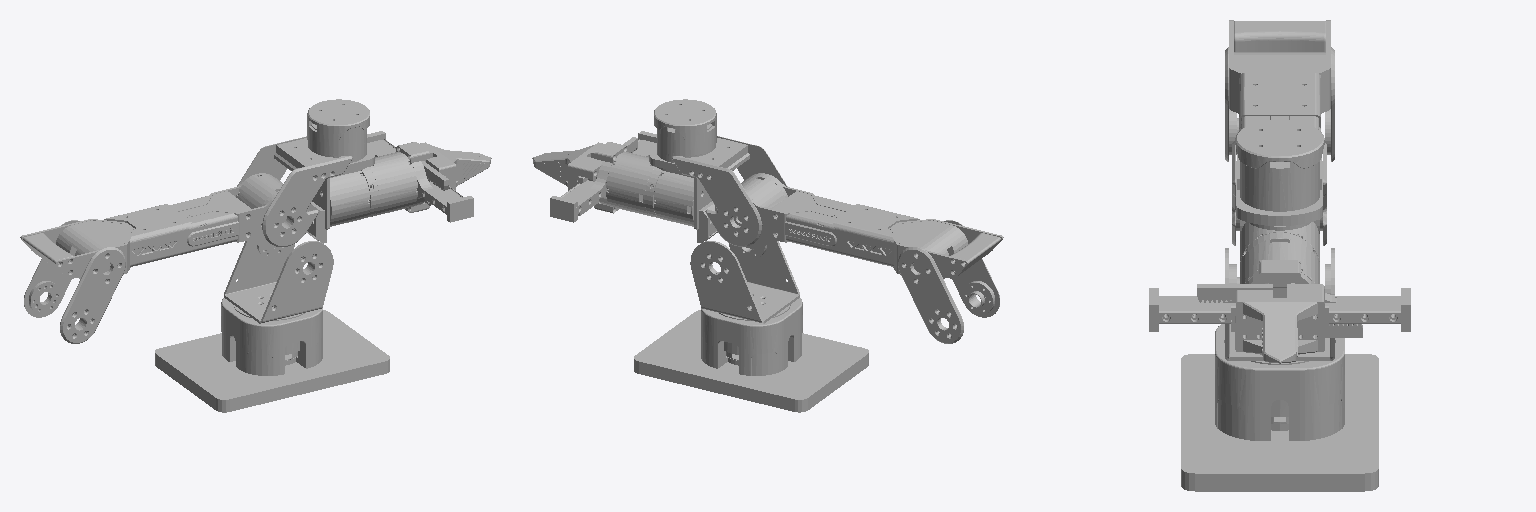
robot.urdf — reBot-DevArm_fixend:
<?xml version="1.0" encoding="utf-8"?>
<!-- This URDF was automatically created by SolidWorks to URDF Exporter! Originally created by Stephen Brawner (brawner@gmail.com) 
     Commit Version: 1.6.0-4-g7f85cfe  Build Version: 1.6.7995.38578
     For more information, please see http://wiki.ros.org/sw_urdf_exporter -->
<robot
  name="reBot-DevArm_fixend">
  <link
    name="base_link">
    <inertial>
      <origin
        xyz="-1.85734193190318E-05 -3.14893917816028E-08 0.0235694730998748"
        rpy="0 0 0" />
      <mass
        value="0.719994590495512" />
      <inertia
        ixx="0.000915098415293508"
        ixy="1.16624299234023E-08"
        ixz="-2.77627033649579E-07"
        iyy="0.00159394997606591"
        iyz="-3.83853691579024E-10"
        izz="0.00234792471513731" />
    </inertial>
    <visual>
      <origin
        xyz="0 0 0"
        rpy="0 0 0" />
      <geometry>
        <mesh
          filename="package://reBot-DevArm_description_fixend/meshes/base_link.STL" />
      </geometry>
      <material
        name="">
        <color
          rgba="0.752941176470588 0.752941176470588 0.752941176470588 1" />
      </material>
    </visual>
    <collision>
      <origin
        xyz="0 0 0"
        rpy="0 0 0" />
      <geometry>
        <mesh
          filename="package://reBot-DevArm_description_fixend/meshes/base_link.STL" />
      </geometry>
    </collision>
  </link>
  <link
    name="link1">
    <inertial>
      <origin
        xyz="0.00946544445312927 -0.000916580237430832 0.0265782762061412"
        rpy="0 0 0" />
      <mass
        value="0.0474137994557966" />
      <inertia
        ixx="6.36839627695188E-05"
        ixy="-1.55440663246564E-11"
        ixz="-7.08508824336641E-06"
        iyy="3.98844280553226E-05"
        iyz="-4.4556429003454E-11"
        izz="5.92016142489911E-05" />
    </inertial>
    <visual>
      <origin
        xyz="0 0 0"
        rpy="0 0 0" />
      <geometry>
        <mesh
          filename="package://reBot-DevArm_description_fixend/meshes/link1.STL" />
      </geometry>
      <material
        name="">
        <color
          rgba="0.752941176470588 0.752941176470588 0.752941176470588 1" />
      </material>
    </visual>
    <collision>
      <origin
        xyz="0 0 0"
        rpy="0 0 0" />
      <geometry>
        <mesh
          filename="package://reBot-DevArm_description_fixend/meshes/link1.STL" />
      </geometry>
    </collision>
  </link>
  <joint
    name="joint1"
    type="revolute">
    <origin
      xyz="0 0 0.0708"
      rpy="0 0 0" />
    <parent
      link="base_link" />
    <child
      link="link1" />
    <axis
      xyz="0 0 1" />
    <limit
      lower="-3.14"
      upper="3.14"
      effort="27"
      velocity="50" />
  </joint>
  <link
    name="link2">
    <inertial>
      <origin
        xyz="-0.132889542584872 -0.003258224978752 -0.0349384843366669"
        rpy="0 0 0" />
      <mass
        value="0.739226251844668" />
      <inertia
        ixx="0.000256114561344732"
        ixy="-6.74416097640004E-06"
        ixz="4.81792944649058E-10"
        iyy="0.00206193618710208"
        iyz="4.37044735910569E-07"
        izz="0.00205913873630619" />
    </inertial>
    <visual>
      <origin
        xyz="0 0 0"
        rpy="0 0 0" />
      <geometry>
        <mesh
          filename="package://reBot-DevArm_description_fixend/meshes/link2.STL" />
      </geometry>
      <material
        name="">
        <color
          rgba="0.752941176470588 0.752941176470588 0.752941176470588 1" />
      </material>
    </visual>
    <collision>
      <origin
        xyz="0 0 0"
        rpy="0 0 0" />
      <geometry>
        <mesh
          filename="package://reBot-DevArm_description_fixend/meshes/link2.STL" />
      </geometry>
    </collision>
  </link>
  <joint
    name="joint2"
    type="revolute">
    <origin
      xyz="0.02 0.035625 0.0497"
      rpy="-1.5708 0 0" />
    <parent
      link="link1" />
    <child
      link="link2" />
    <axis
      xyz="0 0 -1" />
    <limit
      lower="-3.14"
      upper="0"
      effort="27"
      velocity="50" />
  </joint>
  <link
    name="link3">
    <inertial>
      <origin
        xyz="0.123937952105152 -0.0545951132444595 -0.0352155733412803"
        rpy="0 0 0" />
      <mass
        value="0.517217816239094" />
      <inertia
        ixx="0.000154448088504725"
        ixy="1.31408569477724E-05"
        ixz="-1.08370172627092E-09"
        iyy="0.00131521837345199"
        iyz="2.77287281258215E-07"
        izz="0.00130884871979224" />
    </inertial>
    <visual>
      <origin
        xyz="0 0 0"
        rpy="0 0 0" />
      <geometry>
        <mesh
          filename="package://reBot-DevArm_description_fixend/meshes/link3.STL" />
      </geometry>
      <material
        name="">
        <color
          rgba="0.752941176470588 0.752941176470588 0.752941176470588 1" />
      </material>
    </visual>
    <collision>
      <origin
        xyz="0 0 0"
        rpy="0 0 0" />
      <geometry>
        <mesh
          filename="package://reBot-DevArm_description_fixend/meshes/link3.STL" />
      </geometry>
    </collision>
  </link>
  <joint
    name="joint3"
    type="revolute">
    <origin
      xyz="-0.264 0 0"
      rpy="0 0 0" />
    <parent
      link="link2" />
    <child
      link="link3" />
    <axis
      xyz="0 0 1" />
    <limit
      lower="-3.14"
      upper="0"
      effort="27"
      velocity="50" />
  </joint>
  <link
    name="link4">
    <inertial>
      <origin
        xyz="0.0605173509890757 -0.0515591812721402 -0.0304480106784497"
        rpy="0 0 0" />
      <mass
        value="0.192697131774934" />
      <inertia
        ixx="8.02180695386143E-05"
        ixy="1.80653906847015E-05"
        ixz="4.16372809232252E-08"
        iyy="0.00011283880277066"
        iyz="-1.27766109264829E-07"
        izz="0.000110011824792294" />
    </inertial>
    <visual>
      <origin
        xyz="0 0 0"
        rpy="0 0 0" />
      <geometry>
        <mesh
          filename="package://reBot-DevArm_description_fixend/meshes/link4.STL" />
      </geometry>
      <material
        name="">
        <color
          rgba="0.752941176470588 0.752941176470588 0.752941176470588 1" />
      </material>
    </visual>
    <collision>
      <origin
        xyz="0 0 0"
        rpy="0 0 0" />
      <geometry>
        <mesh
          filename="package://reBot-DevArm_description_fixend/meshes/link4.STL" />
      </geometry>
    </collision>
  </link>
  <joint
    name="joint4"
    type="revolute">
    <origin
      xyz="0.2426 -0.054 -0.005625"
      rpy="0 0 0" />
    <parent
      link="link3" />
    <child
      link="link4" />
    <axis
      xyz="0 0 1" />
    <limit
      lower="-1.87"
      upper="1.57"
      effort="7"
      velocity="200" />
  </joint>
  <link
    name="link5">
    <inertial>
      <origin
        xyz="-0.0050794127558127 0.00010101378072503 0.0368401332519827"
        rpy="0 0 0" />
      <mass
        value="0.132385396678886" />
      <inertia
        ixx="5.35384612243393E-05"
        ixy="2.77627187996669E-07"
        ixz="3.09969892642944E-06"
        iyy="4.65021943386178E-05"
        iyz="1.16620238873388E-08"
        izz="4.49715503183576E-05" />
    </inertial>
    <visual>
      <origin
        xyz="0 0 0"
        rpy="0 0 0" />
      <geometry>
        <mesh
          filename="package://reBot-DevArm_description_fixend/meshes/link5.STL" />
      </geometry>
      <material
        name="">
        <color
          rgba="0.752941176470588 0.752941176470588 0.752941176470588 1" />
      </material>
    </visual>
    <collision>
      <origin
        xyz="0 0 0"
        rpy="0 0 0" />
      <geometry>
        <mesh
          filename="package://reBot-DevArm_description_fixend/meshes/link5.STL" />
      </geometry>
    </collision>
  </link>
  <joint
    name="joint5"
    type="revolute">
    <origin
      xyz="0.078308 -0.0355 -0.03"
      rpy="-1.5708 0 0" />
    <parent
      link="link4" />
    <child
      link="link5" />
    <axis
      xyz="0 0 1" />
    <limit
      lower="-1.57"
      upper="1.57"
      effort="7"
      velocity="200" />
  </joint>
  <link
    name="link6">
    <inertial>
      <origin
        xyz="-3.8781691230616E-07 0.000113777214552087 0.0230647909060226"
        rpy="0 0 0" />
      <mass
        value="0.11789729559246" />
      <inertia
        ixx="3.88080010698203E-05"
        ixy="-1.17785351596058E-08"
        ixz="-3.87297996334965E-10"
        iyy="3.85559589025659E-05"
        iyz="2.77632235790657E-07"
        izz="4.97947305166078E-05" />
    </inertial>
    <visual>
      <origin
        xyz="0 0 0"
        rpy="0 0 0" />
      <geometry>
        <mesh
          filename="package://reBot-DevArm_description_fixend/meshes/link6.STL" />
      </geometry>
      <material
        name="">
        <color
          rgba="0.752941176470588 0.752941176470588 0.752941176470588 1" />
      </material>
    </visual>
    <collision>
      <origin
        xyz="0 0 0"
        rpy="0 0 0" />
      <geometry>
        <mesh
          filename="package://reBot-DevArm_description_fixend/meshes/link6.STL" />
      </geometry>
    </collision>
  </link>
  <joint
    name="joint6"
    type="revolute">
    <origin
      xyz="0.027192 0 0.038"
      rpy="0 1.5708 0" />
    <parent
      link="link5" />
    <child
      link="link6" />
    <axis
      xyz="0 0 1" />
    <limit
      lower="-6.28"
      upper="6.28"
      effort="7"
      velocity="200" />
  </joint>
  <link
    name="end_link">
    <inertial>
      <origin
        xyz="-0.0725515914083579 -2.48849641689627E-05 8.93997475285291E-05"
        rpy="0 0 0" />
      <mass
        value="0.144462872984956" />
      <inertia
        ixx="0.000184957886333639"
        ixy="2.96738638766954E-12"
        ixz="2.85406142523417E-09"
        iyy="3.17608917694512E-05"
        iyz="2.09841553499463E-08"
        izz="0.000178869005286531" />
    </inertial>
    <visual>
      <origin
        xyz="0 0 0"
        rpy="0 0 0" />
      <geometry>
        <mesh
          filename="package://reBot-DevArm_description_fixend/meshes/end_link.STL" />
      </geometry>
      <material
        name="">
        <color
          rgba="0.752941176470588 0.752941176470588 0.752941176470588 1" />
      </material>
    </visual>
    <collision>
      <origin
        xyz="0 0 0"
        rpy="0 0 0" />
      <geometry>
        <mesh
          filename="package://reBot-DevArm_description_fixend/meshes/end_link.STL" />
      </geometry>
    </collision>
  </link>
  <joint
    name="end_joint"
    type="fixed">
    <origin
      xyz="-0.00018697 -5.9452E-05 0.14921"
      rpy="0 -1.5708 3.1415" />
    <parent
      link="link6" />
    <child
      link="end_link" />
    <axis
      xyz="0 0 0" />
  </joint>
</robot>

--- Facts derived from the render (not from the file) ---
3 views of the same robot in one strip: view 1: azimuth 30°, elevation 25°; view 2: azimuth 150°, elevation 25°; view 3: azimuth 270°, elevation 25° (orthographic).
Model reBot-DevArm_fixend with 8 links and 7 joints (6 revolute, 1 fixed), rooted at base_link, posed all joints at 0.
Links seen in each view (by area): view 1: link3, base_link, link4, link1, link6, link5, end_link; view 2: link3, base_link, link4, link1, link6, link5, end_link; view 3: base_link, link3, link4, link6, end_link, link1, link5.
Boxes of the visible links, <box> form: link3: <box>20,173,309,343</box>; base_link: <box>155,298,389,412</box>; link4: <box>237,99,374,246</box>; link1: <box>224,240,333,323</box>; link6: <box>361,131,473,222</box>; link5: <box>306,168,370,243</box>; end_link: <box>420,142,491,205</box>; link3: <box>715,173,1003,343</box>; base_link: <box>634,298,868,412</box>; link4: <box>649,99,787,246</box>; link1: <box>690,240,799,323</box>; link6: <box>550,131,662,222</box>; link5: <box>654,167,717,242</box>; end_link: <box>532,137,637,215</box>; base_link: <box>1181,324,1378,491</box>; link3: <box>1225,20,1334,233</box>; link4: <box>1232,120,1326,245</box>; link6: <box>1149,232,1410,354</box>; end_link: <box>1197,284,1362,363</box>; link1: <box>1225,248,1334,360</box>; link5: <box>1240,221,1319,261</box>.
Bounding box of the posed robot: 0.524 × 0.1841 × 0.264 m (x, y, z).
7 mesh visuals loaded from 8 distinct referenced files (7 binary STL); not drawn: 1 (reference not matched to a file when rendering).
